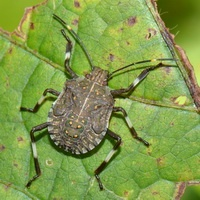insect: (20, 8, 186, 188), (104, 147, 158, 187)
